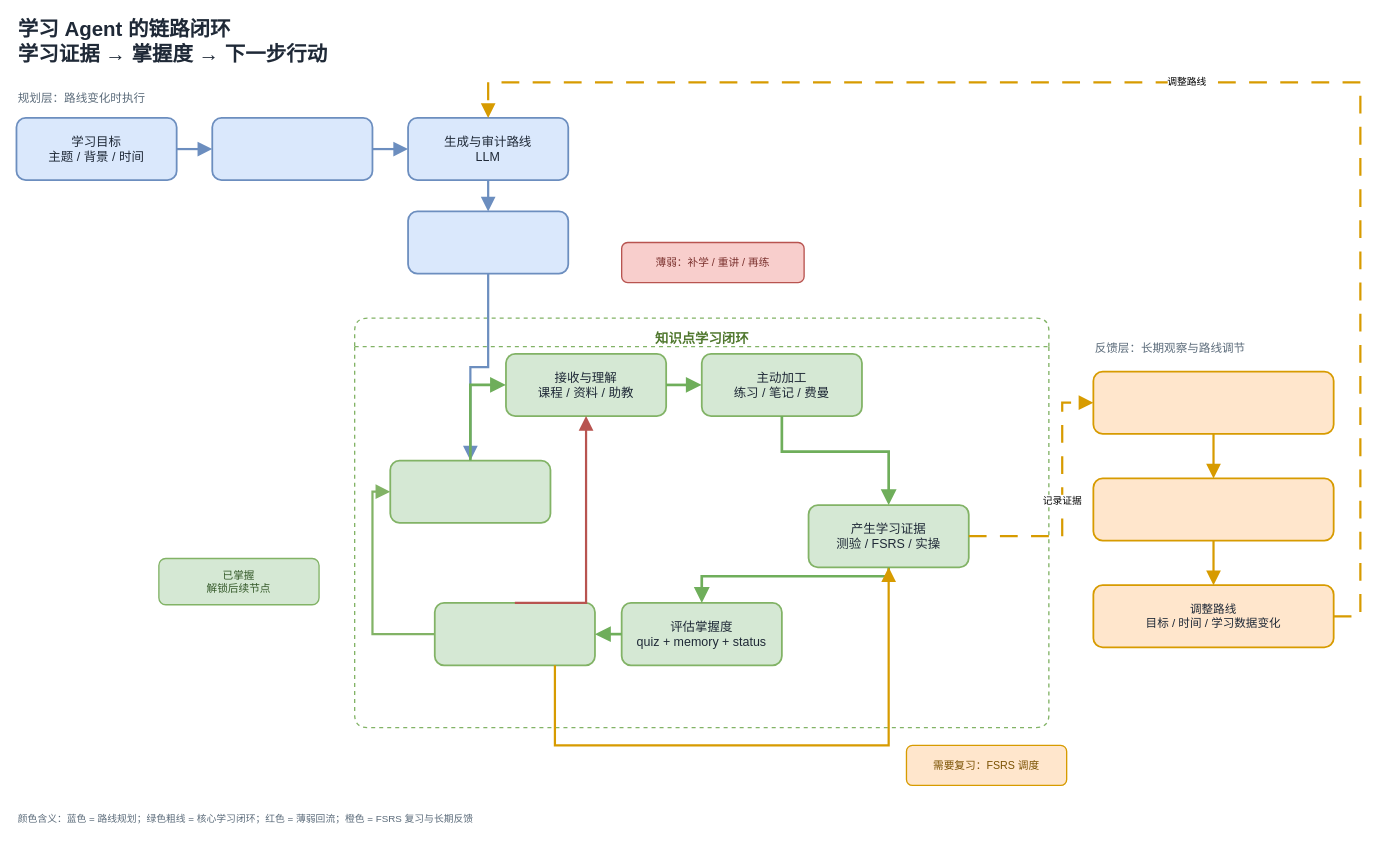
This 1388x845 diagram has some shape labels left out. Each missing label, with the centre of its shape:
"决定下一动作 继续 / 补学 / 复习" goes at pixel 514 634.
"学习数据 ProgressRecord / ReviewLog / QuizAttempt" goes at pixel 1213 402.
"学习项目 LearningProject" goes at pixel 292 149.
"看板与日报 观察长期趋势" goes at pixel 1213 509.
"知识路线 DAG KnowledgeNode + 依赖边" goes at pixel 488 242.
"选择下一节点 依赖 / 状态 / 掌握度" goes at pixel 470 491.
